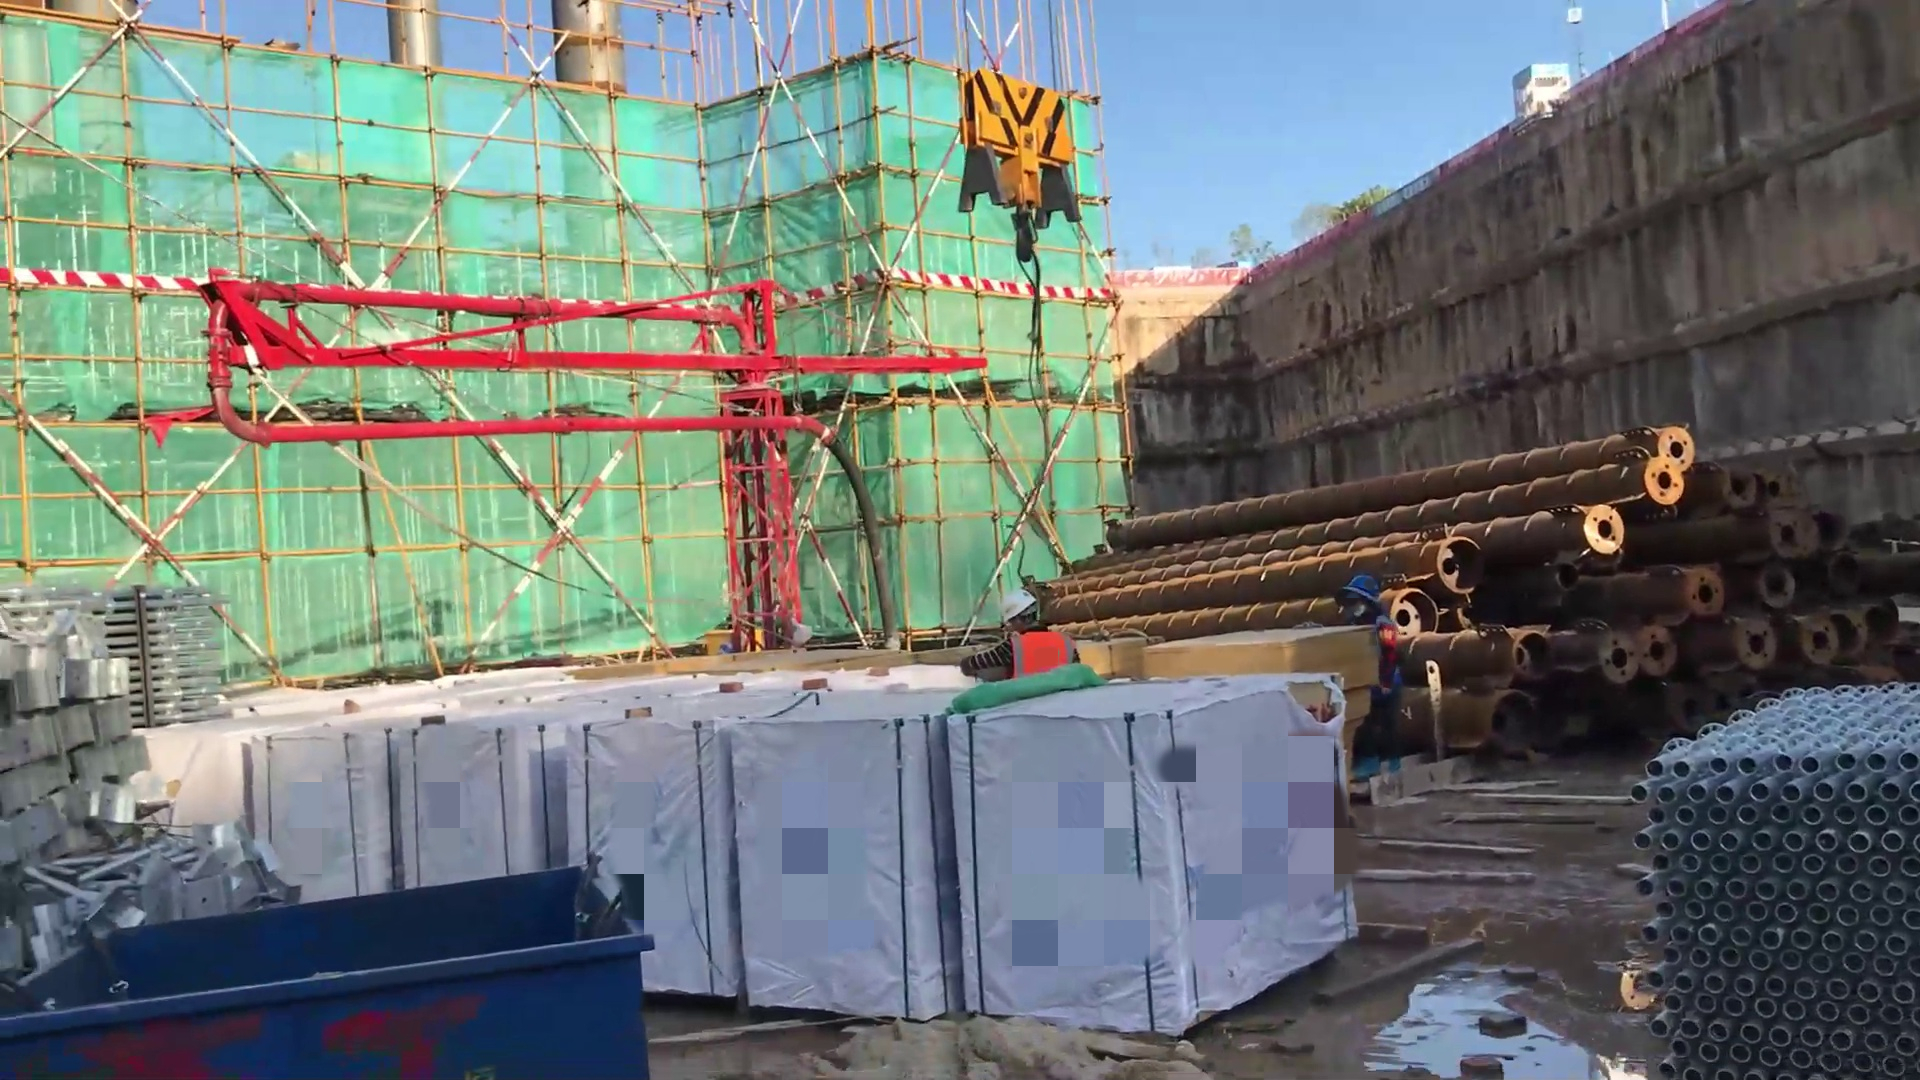board: (1081, 615, 1379, 830)
ebox: (693, 631, 767, 655)
helmet: (990, 588, 1041, 634), (1344, 570, 1386, 611)
hook: (959, 51, 1104, 282)
hopper: (1, 844, 672, 1074)
person: (1333, 568, 1412, 816), (954, 589, 1096, 712)
scaffold: (1615, 677, 1920, 1080), (109, 564, 252, 735)
slogan: (1354, 159, 1454, 227)
vest: (990, 626, 1085, 688)
